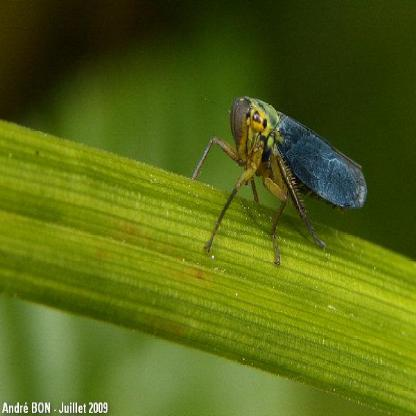Green-Leafhopper: (184, 90, 368, 264)
